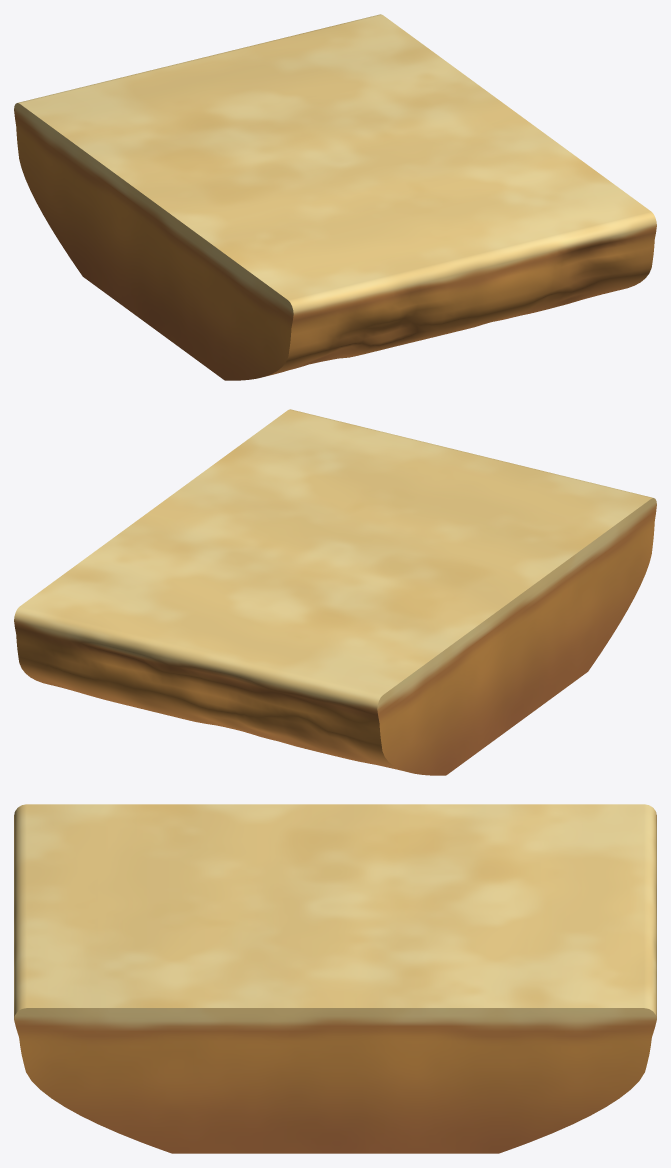
Rendered from SD_G07_Platform_Floating.fbx.
The picture shows the model from 3 angles, top to bottom: view 1: azimuth 30°, elevation 25°; view 2: azimuth 150°, elevation 25°; view 3: azimuth 270°, elevation 25°; orthographic projection. The views are drawn at different scales.
Visible parts, largest first — view 1: SD_G07_Platform_Floating; view 2: SD_G07_Platform_Floating; view 3: SD_G07_Platform_Floating.
Part boxes in pixels (x1,y1,x2,y2): SD_G07_Platform_Floating: (14,14,656,380); SD_G07_Platform_Floating: (14,409,656,775); SD_G07_Platform_Floating: (14,804,656,1153).
Size of the model in its own units: 3 by 1 by 4.
